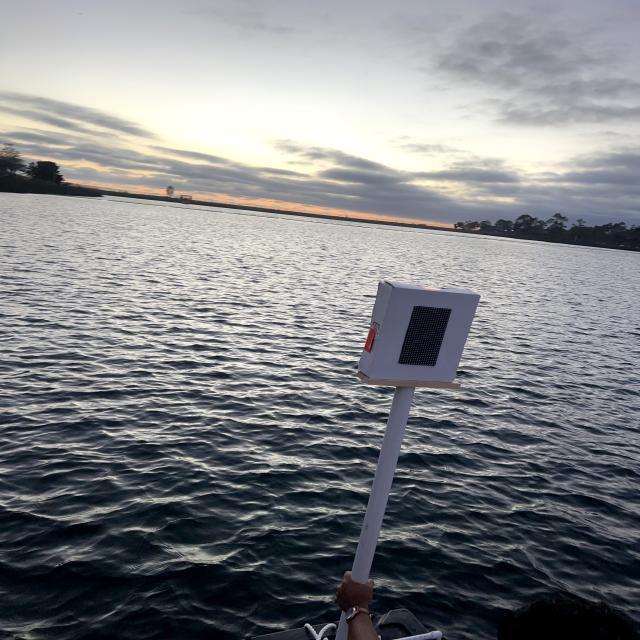led: (391, 291, 456, 381)
